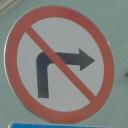NoVirarDireita: (2, 3, 118, 128)
